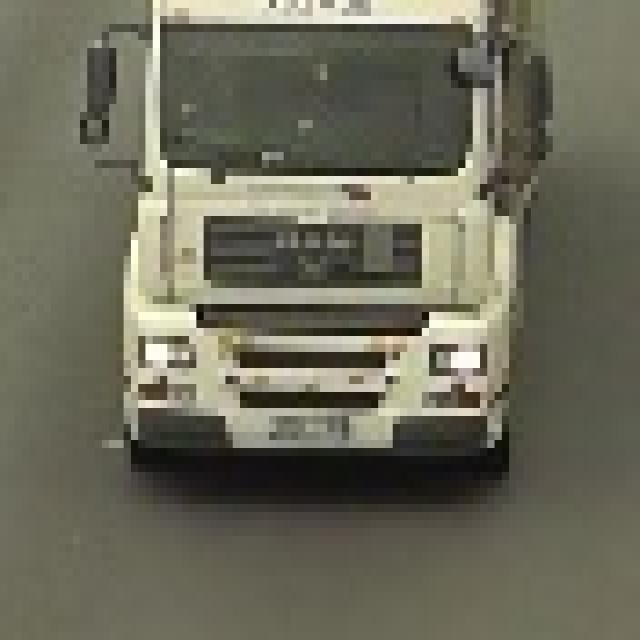TRUCK: (91, 0, 564, 504)
